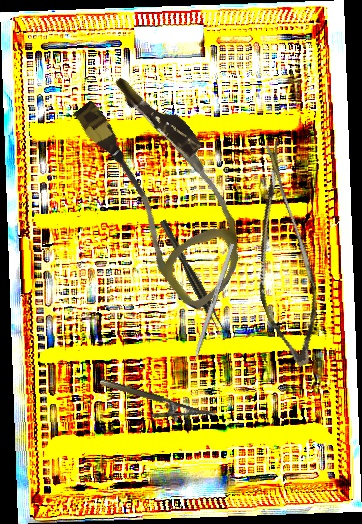Cannula: (49, 62, 282, 315)
Micro Scissor: (212, 137, 350, 372)
Needle Holder: (94, 377, 217, 435)
Pusher: (185, 243, 235, 384)
Tissue Forceps: (159, 217, 226, 334)
